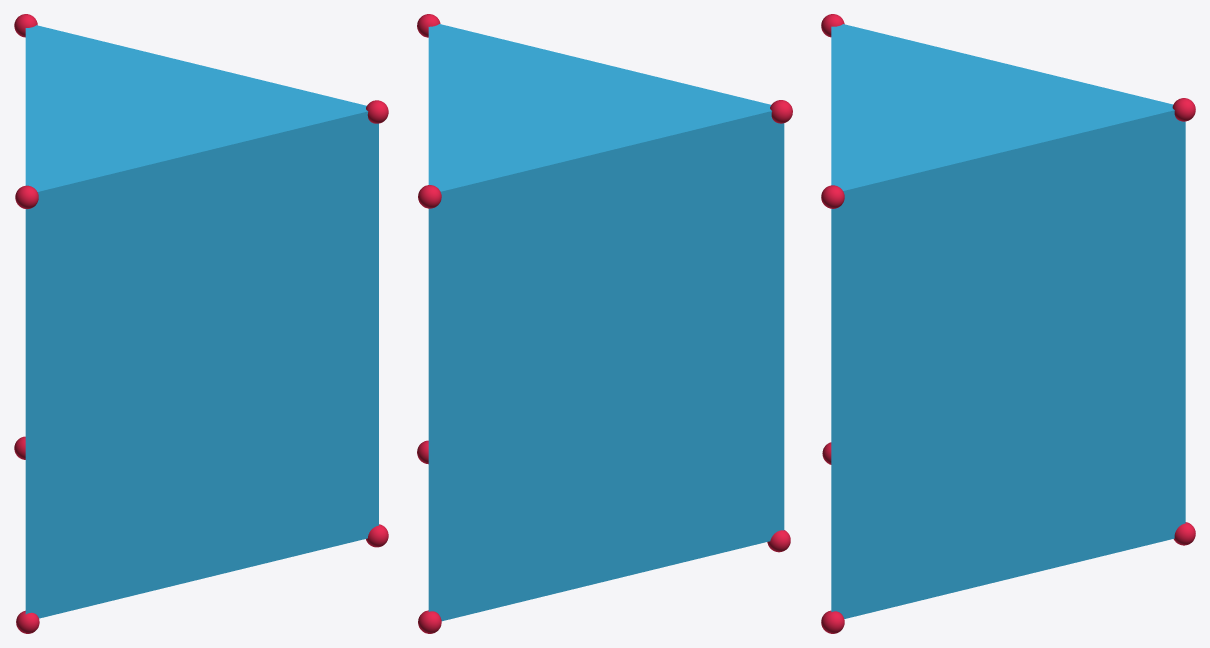
Rendered from asset1.glb.
3 views of the same model, side by side, from view 1: azimuth 30°, elevation 25°; view 2: azimuth 150°, elevation 25°; view 3: azimuth 270°, elevation 25° (orthographic).
Parts seen in each view (by area): view 1: 圓柱體; view 2: 圓柱體; view 3: 圓柱體.
Part boxes in pixels (x1,y1,x2,y2): 圓柱體: (25,25,378,618); 圓柱體: (428,24,784,621); 圓柱體: (831,24,1185,618).
Size of the model in its own units: 1.82 by 2.1 by 1.59.
